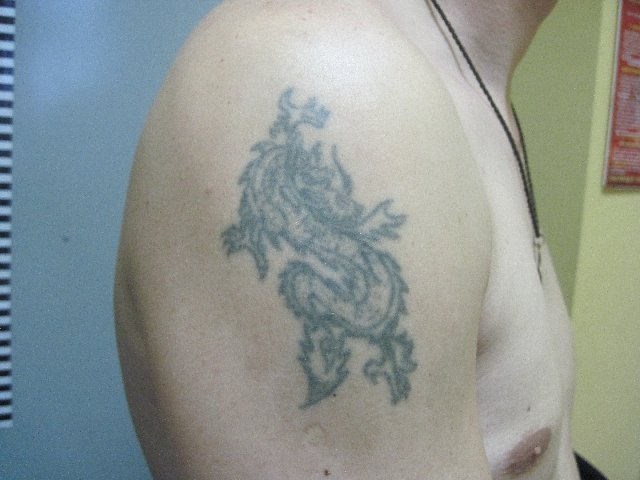tatu6_drakon: (195, 54, 456, 420)
